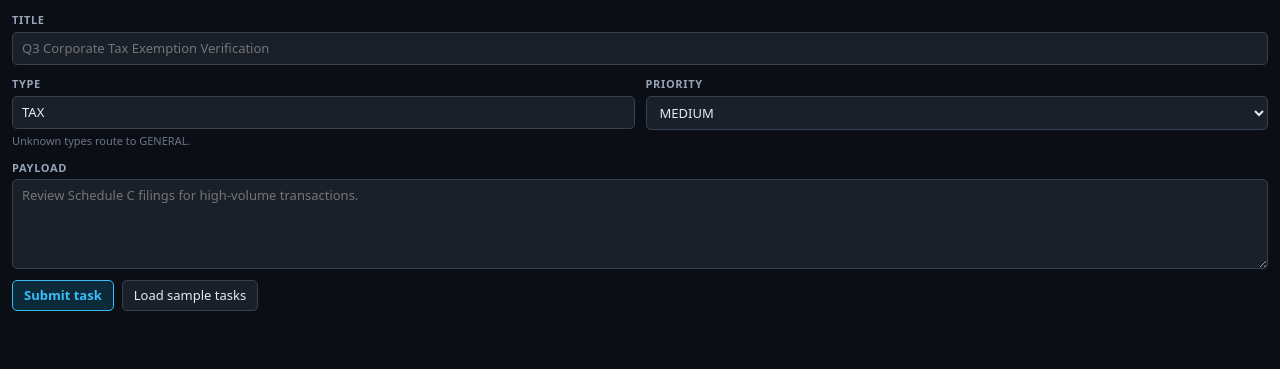
Test: TaskForm - per-field API errors › binds each message to its own input rather than one opaque banner
Step 1. Click the button "Submit task" → (63, 295), box 12,280 -> 114,311
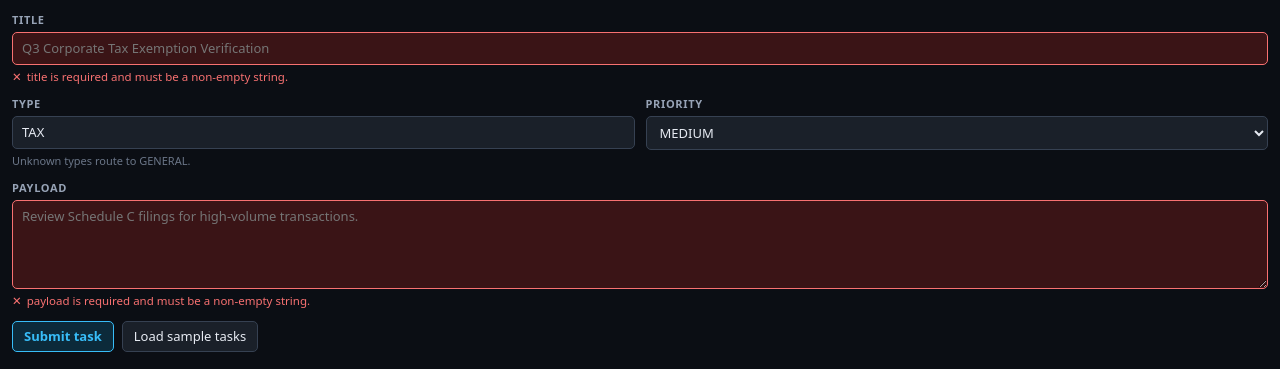
expect the element with id "title-error" shows "title is required": met, box 27,69 -> 288,84
expect the element showing "✕ payload is required and must be a non-empty string." is shown: met, box 12,294 -> 310,308
